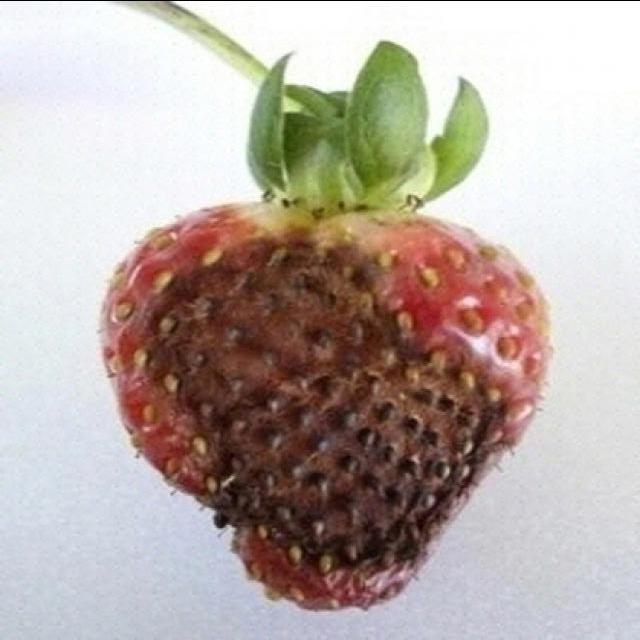Anthracnose Fruit Rot: (100, 195, 556, 613)
